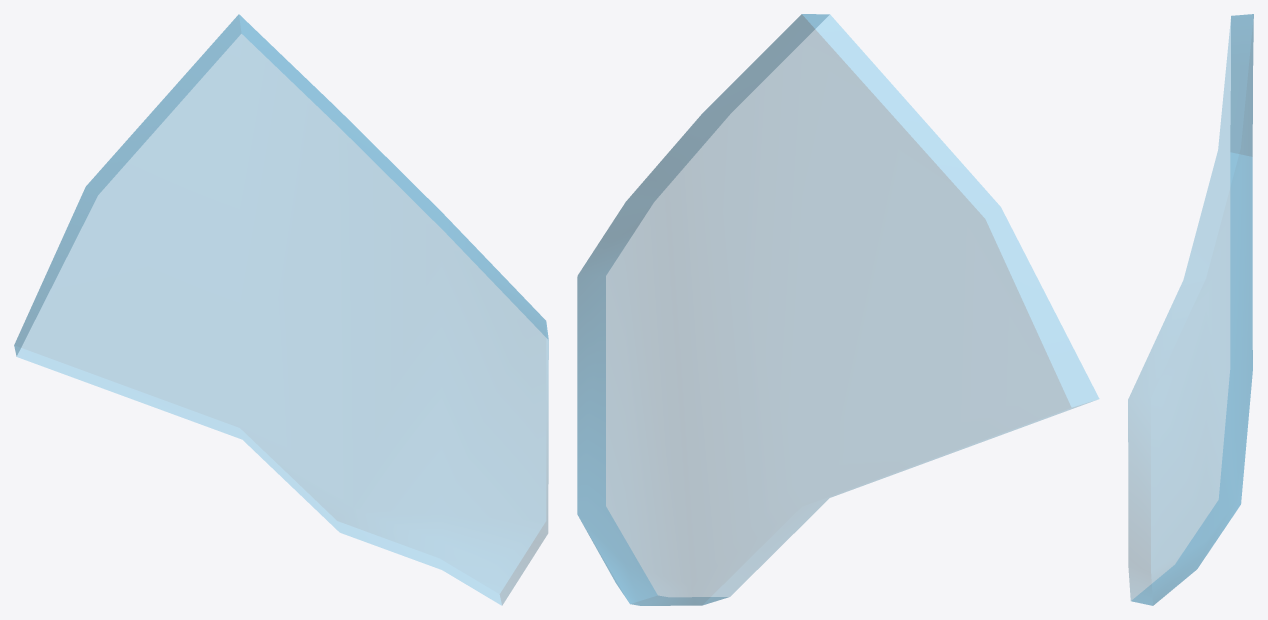
Rendered from p_hvs_minidungeon_rewardlocker_shatterglass_part01.fbx.
The picture shows the model from 3 angles, left to right: view 1: azimuth 30°, elevation 25°; view 2: azimuth 150°, elevation 25°; view 3: azimuth 270°, elevation 25°; orthographic projection. The views are drawn at different scales.
Visible parts, largest first — view 1: 1_shatterglass; view 2: 1_shatterglass; view 3: 1_shatterglass.
Boxes of the visible parts, box(x1,y1,x2,y2) form: 1_shatterglass: box(14, 14, 548, 605); 1_shatterglass: box(577, 14, 1098, 605); 1_shatterglass: box(1128, 14, 1253, 605).
Bounding box in the file's own units: 2 × 2.32 × 0.521.
